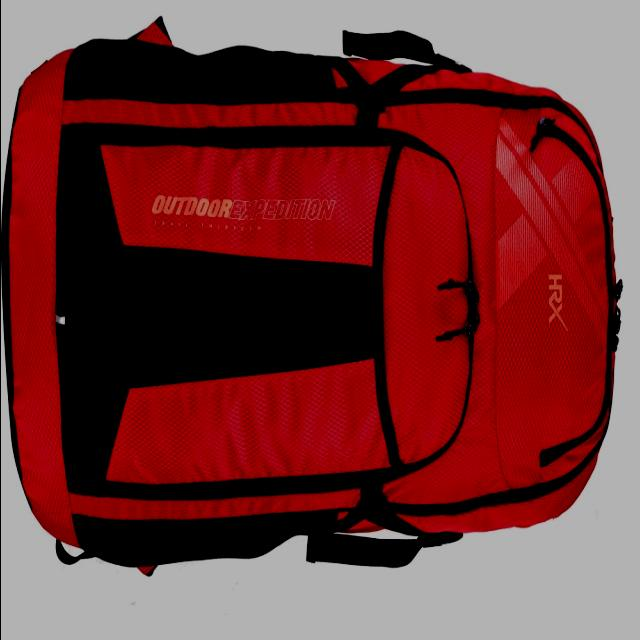backpack: (4, 19, 624, 577)
